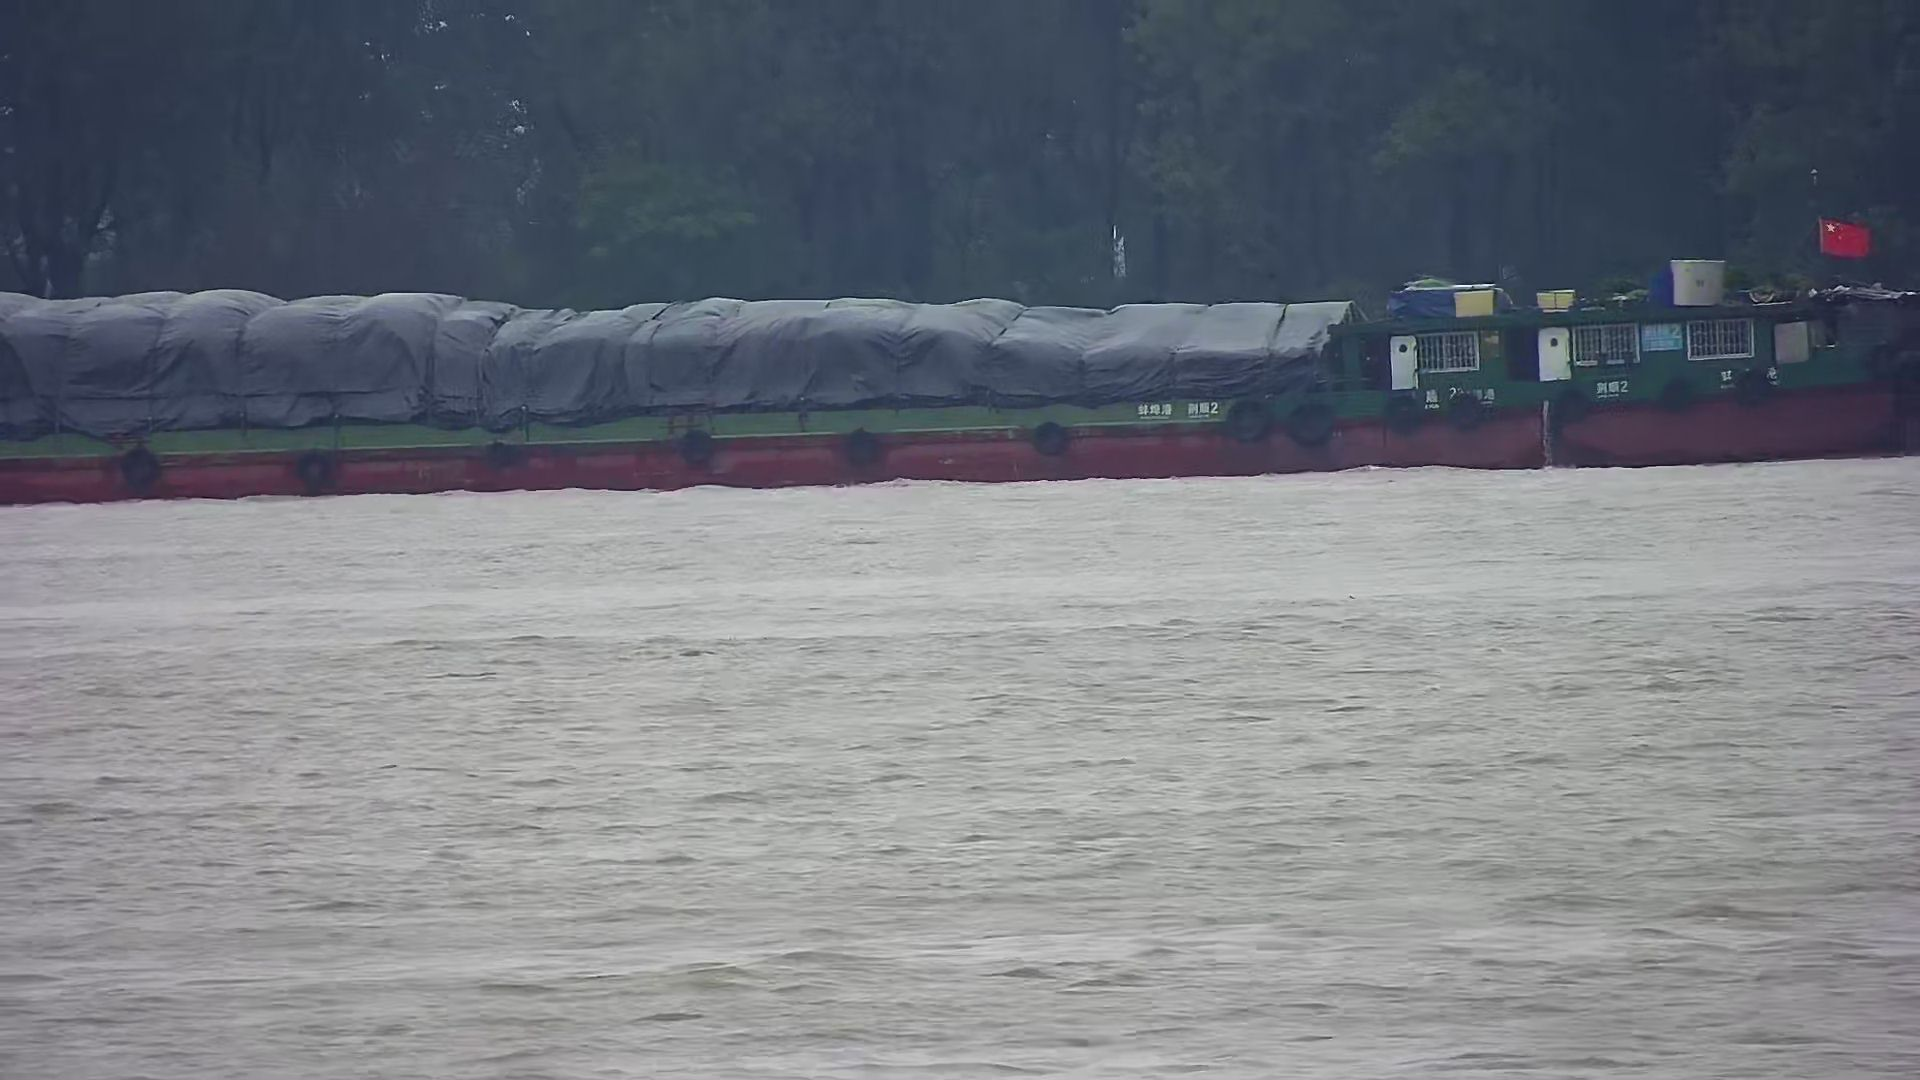ship: (1, 214, 1919, 504)
